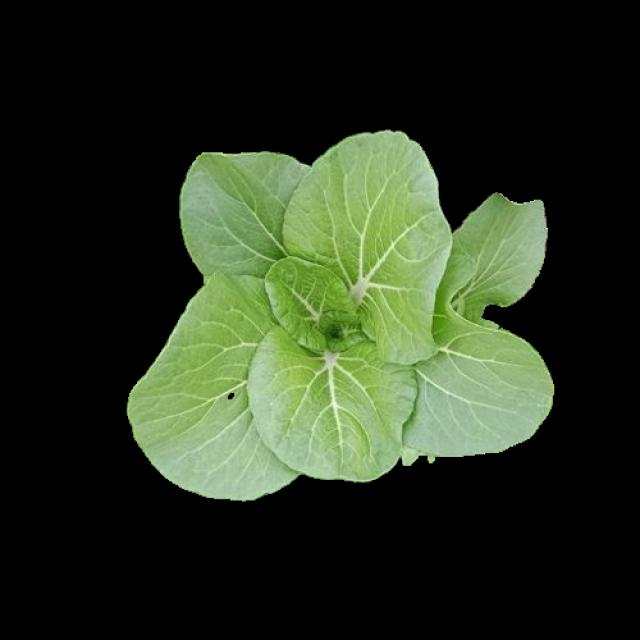mature: (125, 129, 550, 499)
unhealthy: (130, 270, 294, 498)
